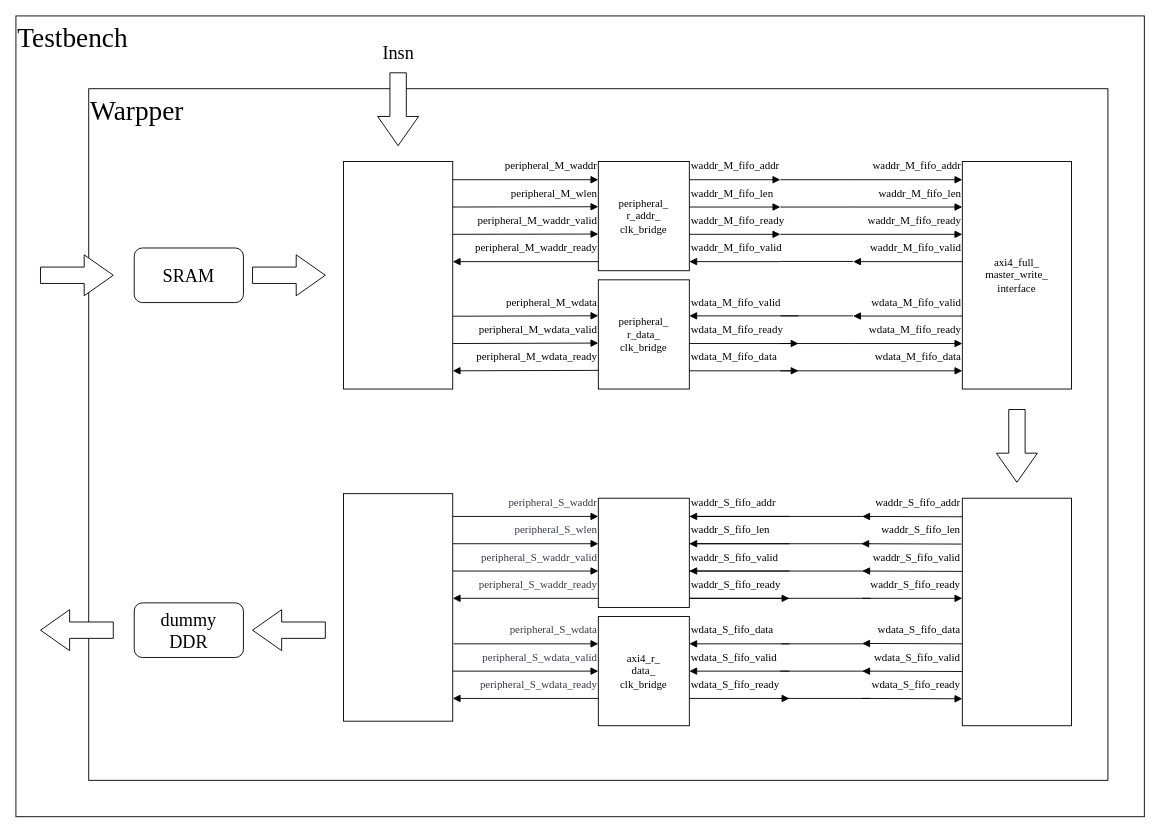
The diagram is 1160 pixels wide and 833 high, and some of its shapes have lost their labels. The shapes that lost their labels are listed below. From the top down, each one's centre as x and y in pixels, then its label:
At (398,275): "store insn".
At (643,552): "axi4_w_ addr_ clk_bridge".
At (398,607): "store ed".
At (1016,611): "axi4_full_ slave_write_ interface".
